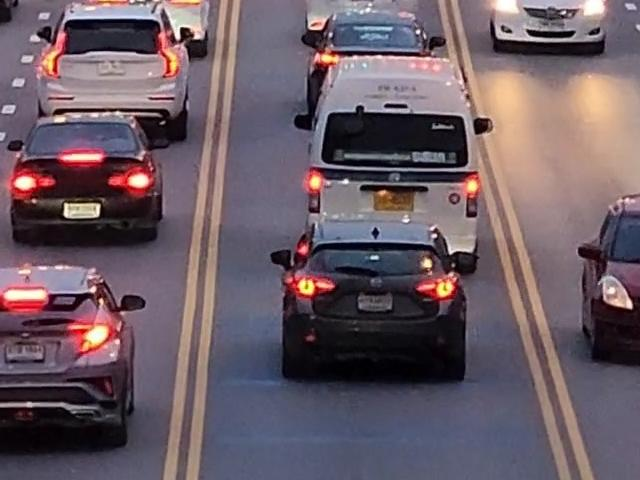car: (310, 48, 493, 268), (267, 228, 483, 385), (0, 271, 150, 454), (3, 118, 180, 248), (29, 1, 193, 137), (566, 181, 640, 371), (305, 4, 426, 118), (496, 0, 619, 58), (84, 0, 214, 49), (298, 0, 409, 43)
